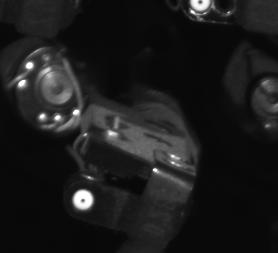fiber: (69, 187, 99, 214), (187, 1, 215, 19)
